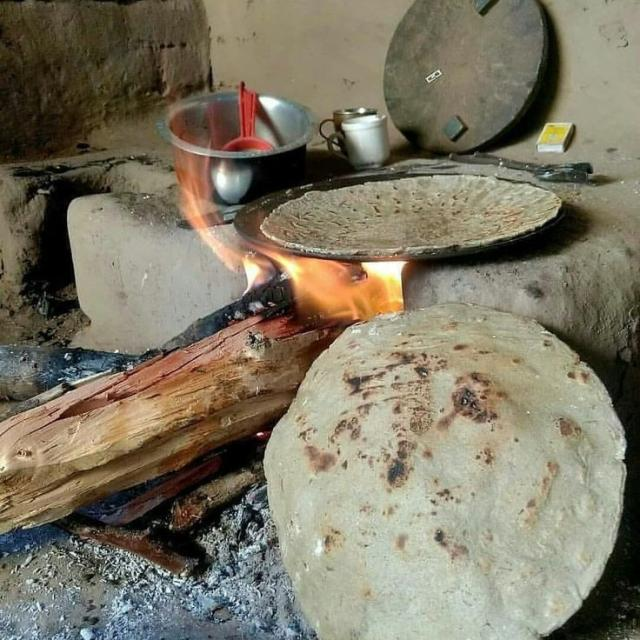fire: (175, 146, 289, 297), (284, 256, 406, 323)
